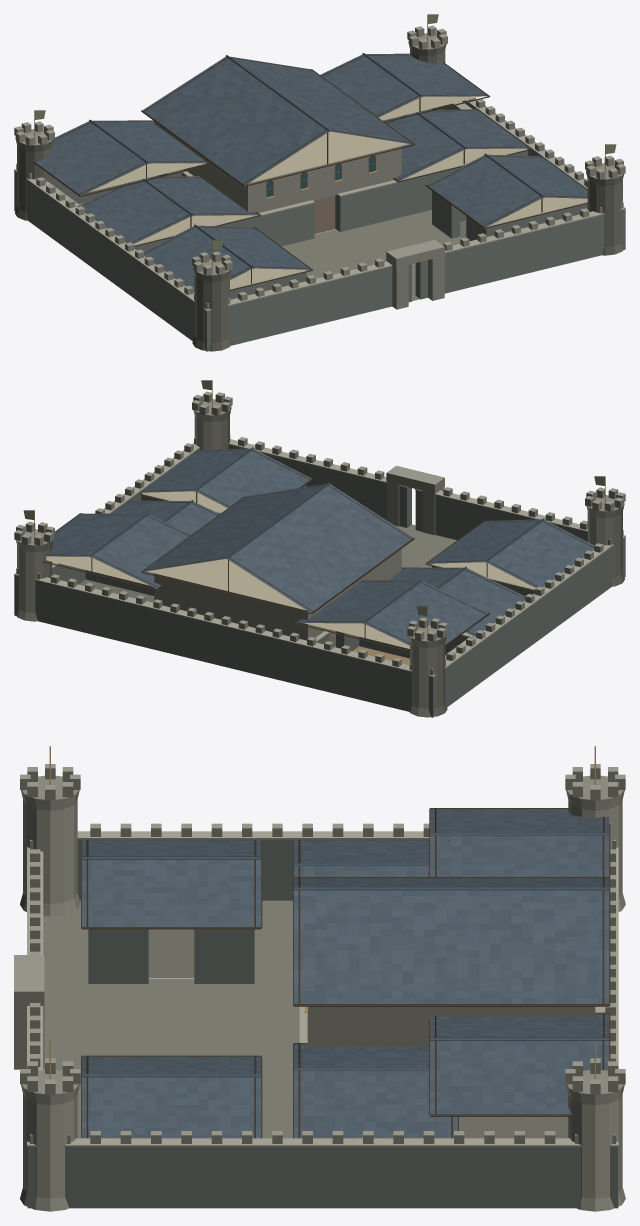
The picture shows the model from 3 angles, top to bottom: view 1: azimuth 30°, elevation 25°; view 2: azimuth 150°, elevation 25°; view 3: azimuth 270°, elevation 25°; orthographic projection. The views are drawn at different scales.
Parts seen in each view (by area): view 1: fa8c60bb61b2814db3c36ec2c5a6d822591dcb8290d25782f1395579be5e; view 2: fa8c60bb61b2814db3c36ec2c5a6d822591dcb8290d25782f1395579be5e; view 3: fa8c60bb61b2814db3c36ec2c5a6d822591dcb8290d25782f1395579be5e.
Boxes of the visible parts, <box> form: fa8c60bb61b2814db3c36ec2c5a6d822591dcb8290d25782f1395579be5e: <box>14,14,625,351</box>; fa8c60bb61b2814db3c36ec2c5a6d822591dcb8290d25782f1395579be5e: <box>14,380,625,717</box>; fa8c60bb61b2814db3c36ec2c5a6d822591dcb8290d25782f1395579be5e: <box>14,746,625,1211</box>.
Size of the model in its own units: 50.03 by 11.96 by 40.42.
7 materials, 1 textured.
